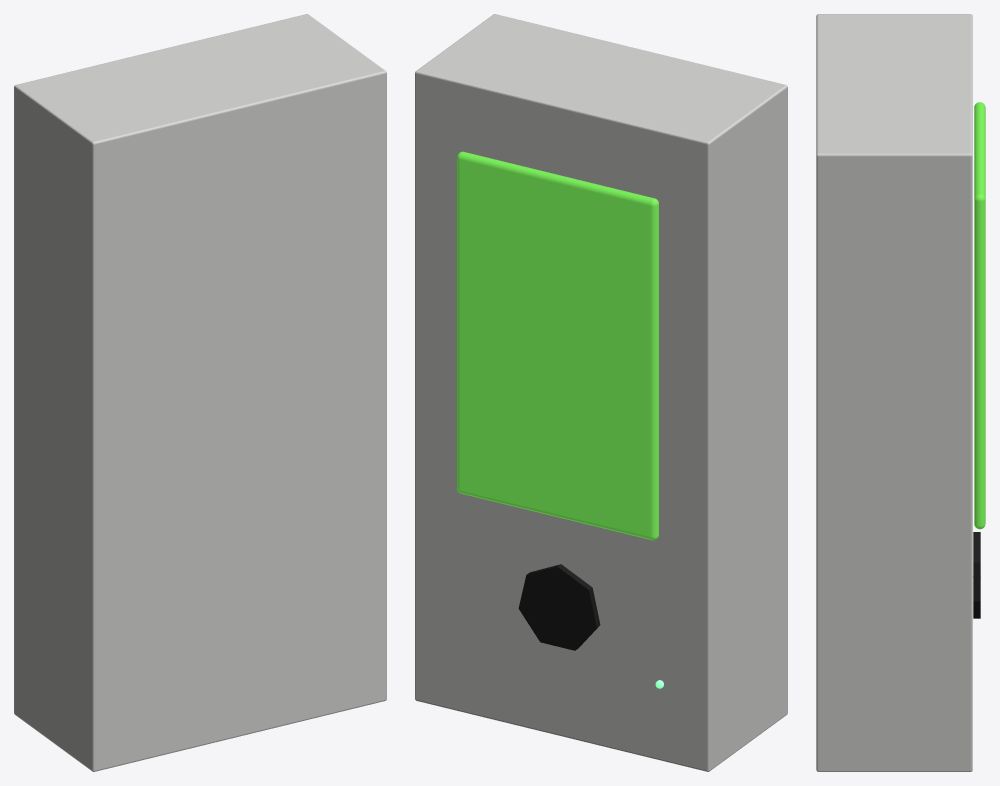
The model's file is wallbox.glb.
The picture shows the model from 3 angles, left to right: view 1: azimuth 30°, elevation 25°; view 2: azimuth 150°, elevation 25°; view 3: azimuth 270°, elevation 25°; orthographic projection.
Visible parts, largest first — view 1: Wallbox_weiß; view 2: Wallbox_weiß, Würfel.001, Buchse; view 3: Wallbox_weiß, Würfel.001, Buchse.
Boxes of the visible parts, box(x1,y1,x2,y2) form: Wallbox_weiß: box(14, 14, 386, 771); Wallbox_weiß: box(415, 14, 787, 771); Würfel.001: box(457, 151, 658, 540); Buchse: box(518, 564, 600, 650); Wallbox_weiß: box(816, 14, 972, 771); Würfel.001: box(974, 102, 985, 529); Buchse: box(973, 532, 980, 618).
Bounding box in the file's own units: 0.235 × 0.48 × 0.119.
